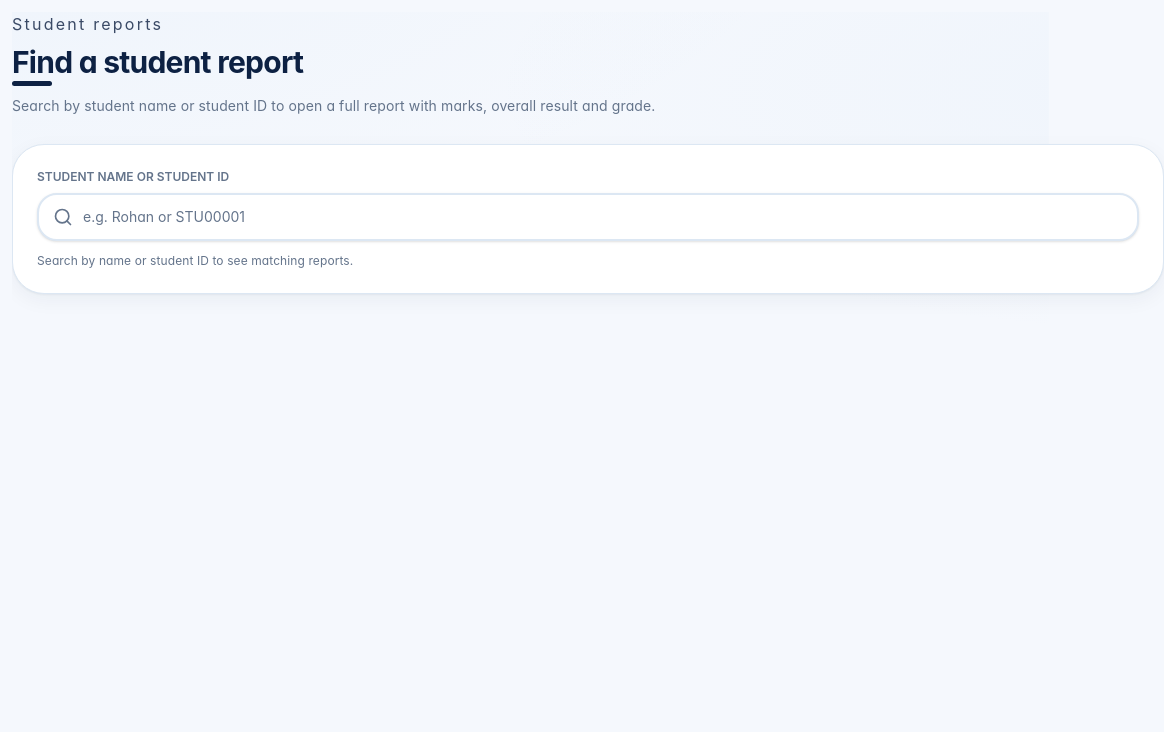
Scenario: StudentReportFinder › shows a helpful no-results state with a clear action
Type "zzzznomatch" into the search field labelled "Student name or student ID" at point(588, 217), box [37,193,1139,241]
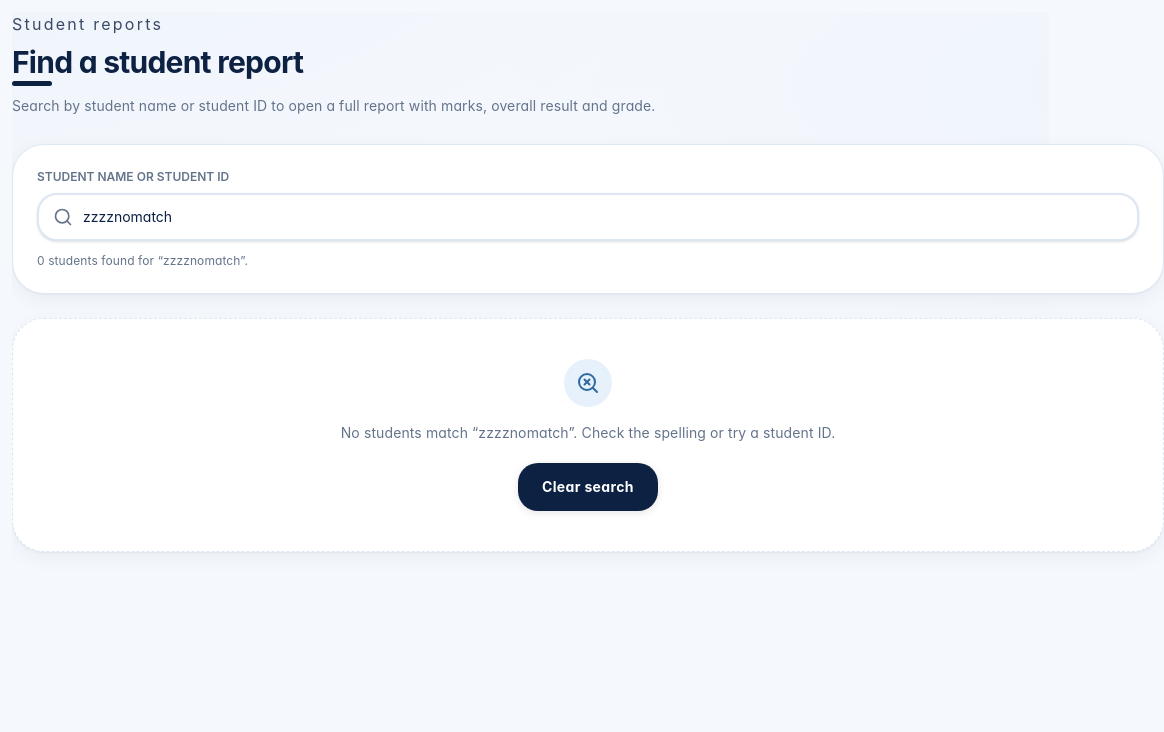
Expected: the text "No students match “zzzznomatch”" is shown, [341,424,835,441]
Click the button "Clear search" at point(588, 487), box [518,463,658,511]
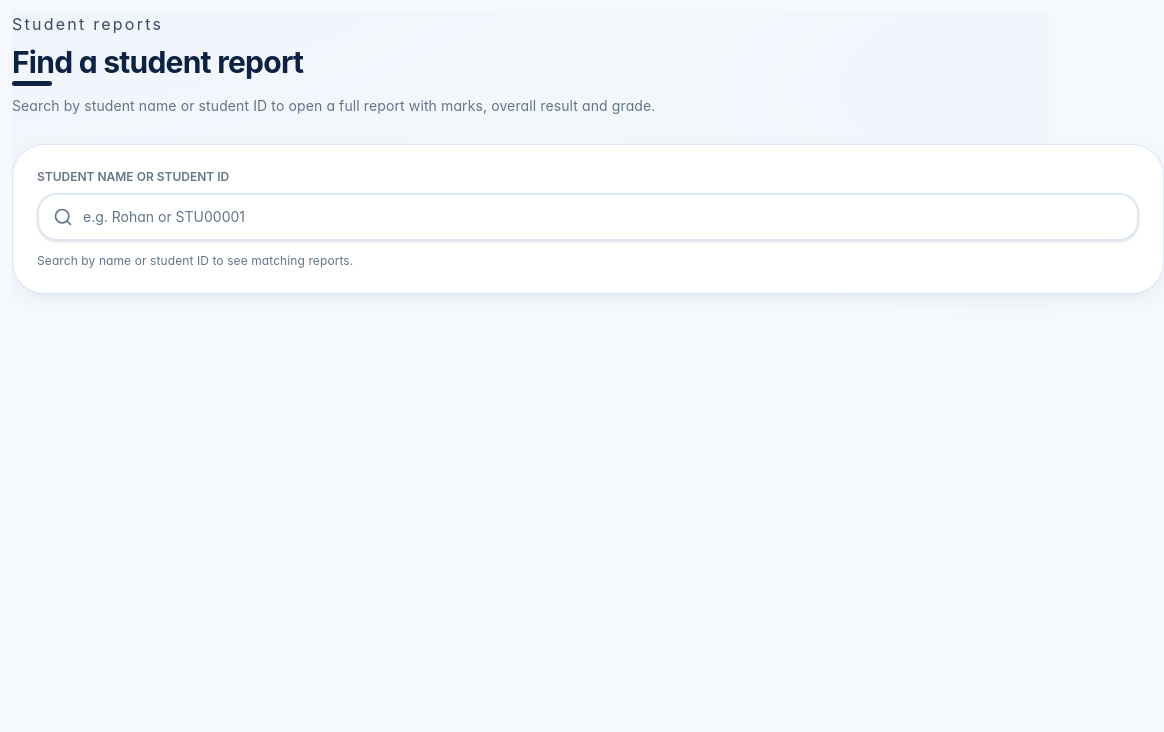
Expected: the search field labelled "Student name or student ID" is empty, [37,193,1139,241]
